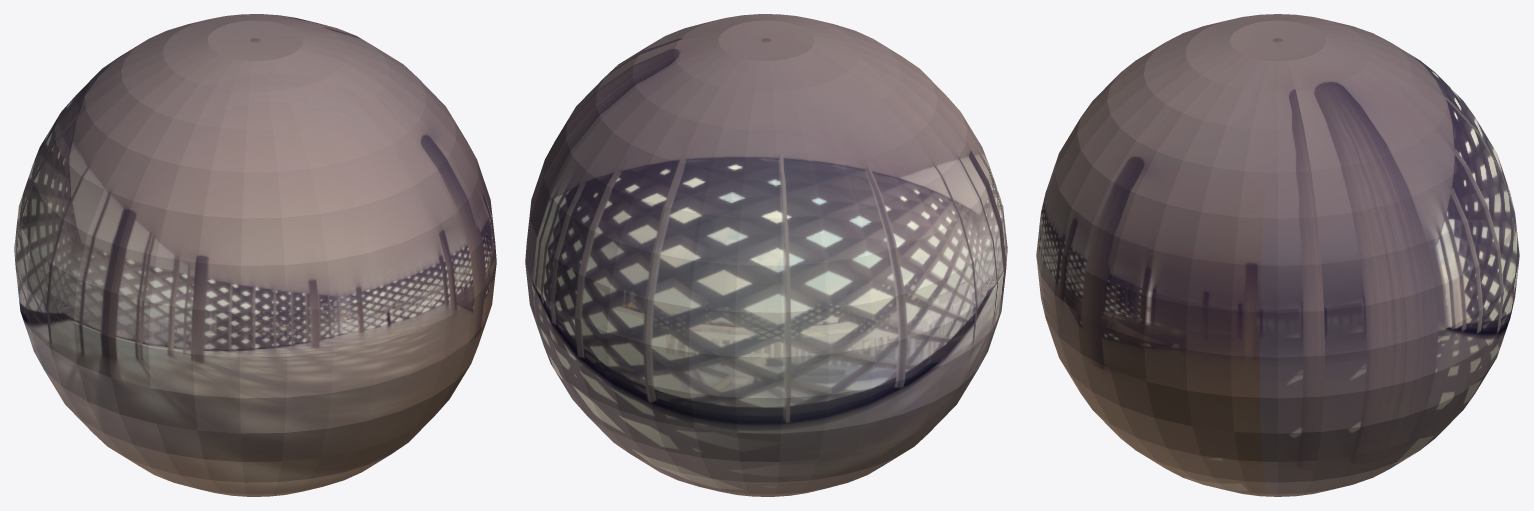
File: sphere_inverted_normals.fbx
The picture shows the model from 3 angles, left to right: view 1: azimuth 30°, elevation 25°; view 2: azimuth 150°, elevation 25°; view 3: azimuth 270°, elevation 25°; orthographic projection.
Visible parts, largest first — view 1: Sphere; view 2: Sphere; view 3: Sphere.
Part boxes in pixels (x1,y1,x2,y2): Sphere: [14, 14, 496, 496]; Sphere: [525, 14, 1007, 496]; Sphere: [1036, 14, 1519, 496].
Size of the model in its own units: 2 by 1.97 by 2.
Materials: 1 (1 with a texture image).
